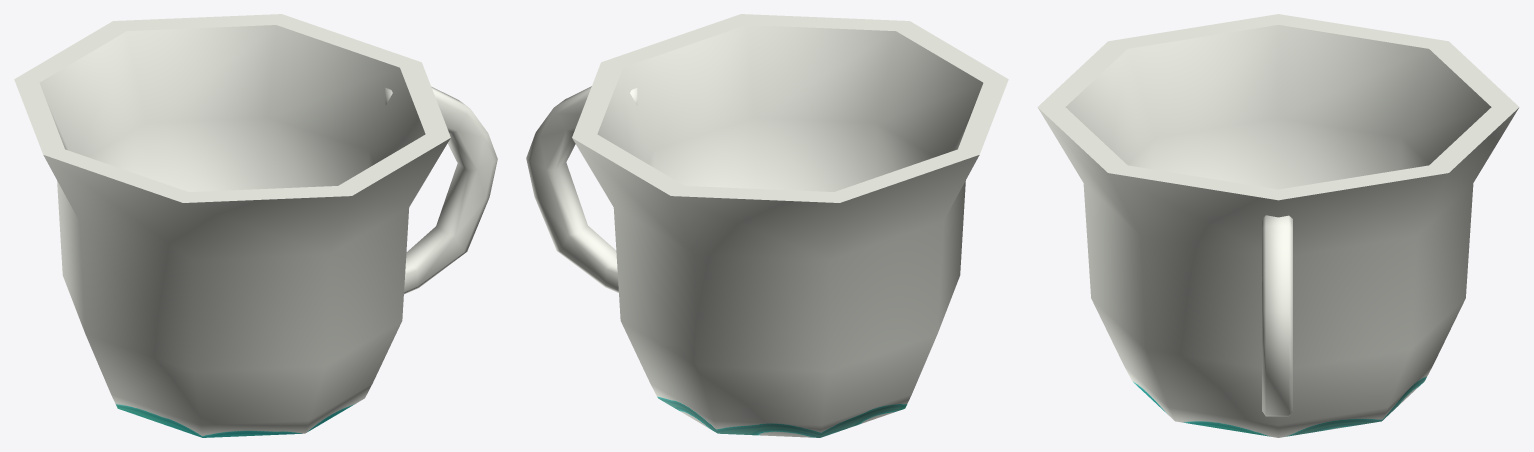
The model's file is Teacup_B.FBX.
The picture shows the model from 3 angles, left to right: view 1: azimuth 30°, elevation 25°; view 2: azimuth 150°, elevation 25°; view 3: azimuth 270°, elevation 25°; orthographic projection.
Parts seen in each view (by area): view 1: Tea_Cup; view 2: Tea_Cup; view 3: Tea_Cup.
Part boxes in pixels (x1=…): Tea_Cup: x1=14, y1=14, x2=497, y2=437; Tea_Cup: x1=526, y1=14, x2=1008, y2=437; Tea_Cup: x1=1037, y1=14, x2=1519, y2=437.
Bounding box in the file's own units: 35.4 × 20.53 × 32.69.
